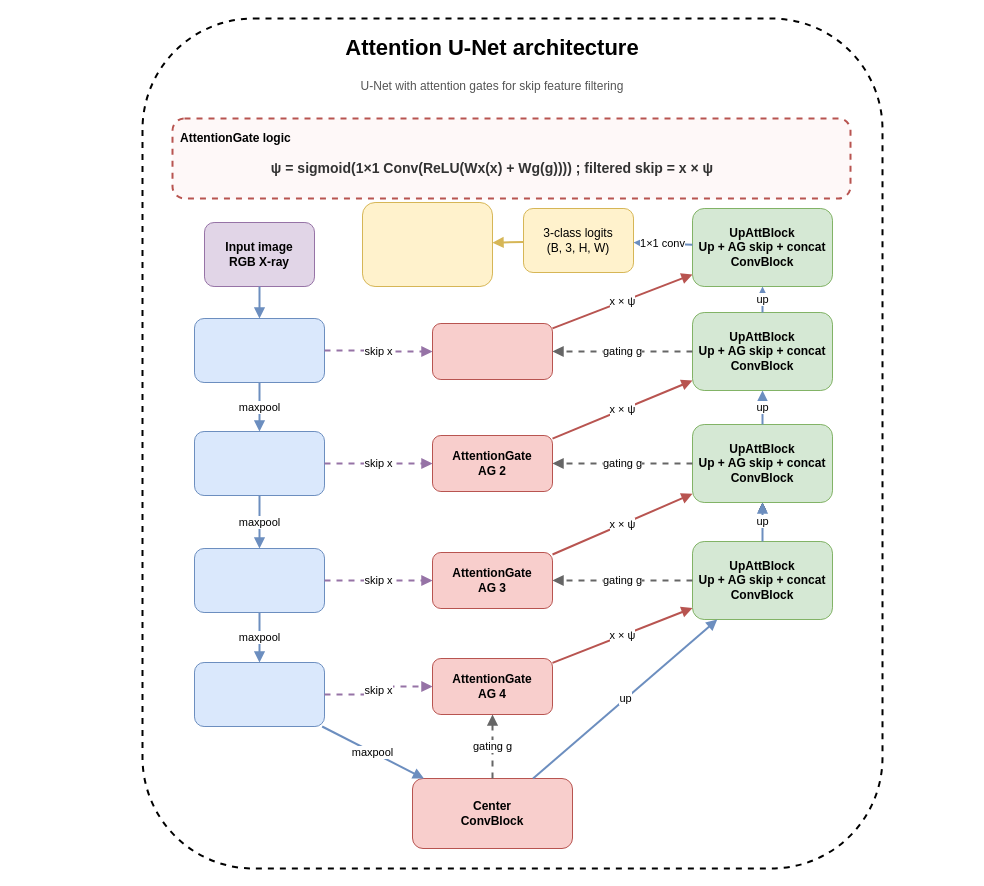
Some shapes in this 984 by 886 pixel diagram are drawn without their labels. Here are the shapes that lost their labels. From the top down, the centre of each, then its label:
At (427,244): "Argmax segmentation mask 0 bg / 1 guidewire / 2 catheter".
At (259,350): "ConvBlock Encoder 1".
At (492,351): "AttentionGate AG 1".
At (259,463): "ConvBlock Encoder 2".
At (259,580): "ConvBlock Encoder 3".
At (259,694): "ConvBlock Encoder 4".
